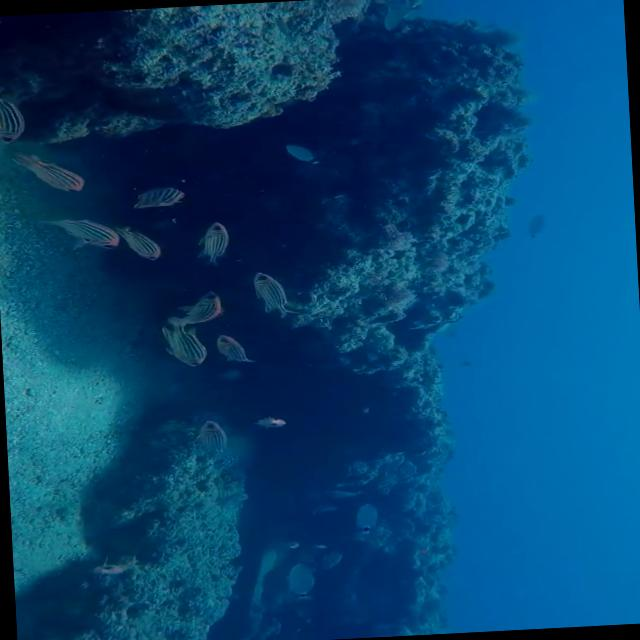Asker Baligi: (46, 204, 132, 258), (154, 311, 220, 374), (231, 266, 301, 318), (188, 218, 238, 264)
